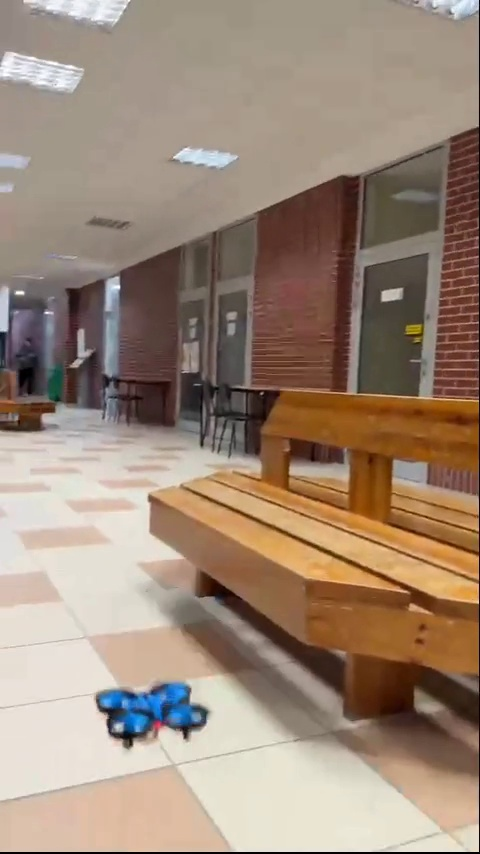drone: (92, 680, 209, 748)
no vest: (14, 336, 44, 396)
